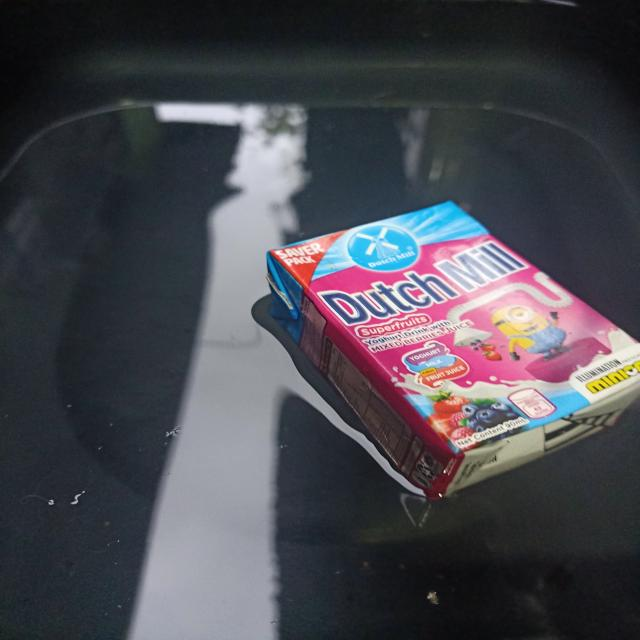Cardboard Box: (254, 197, 640, 498)
